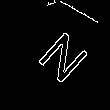N_SW: (24, 25, 87, 89)
